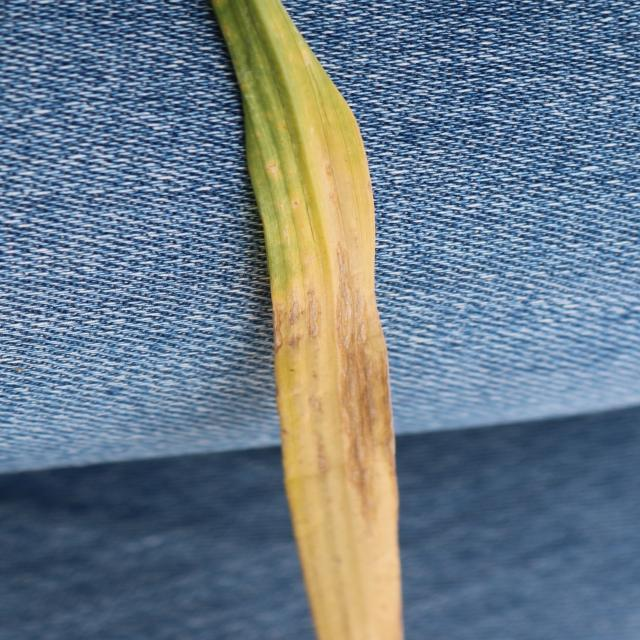Septoria: (303, 114, 394, 635)
